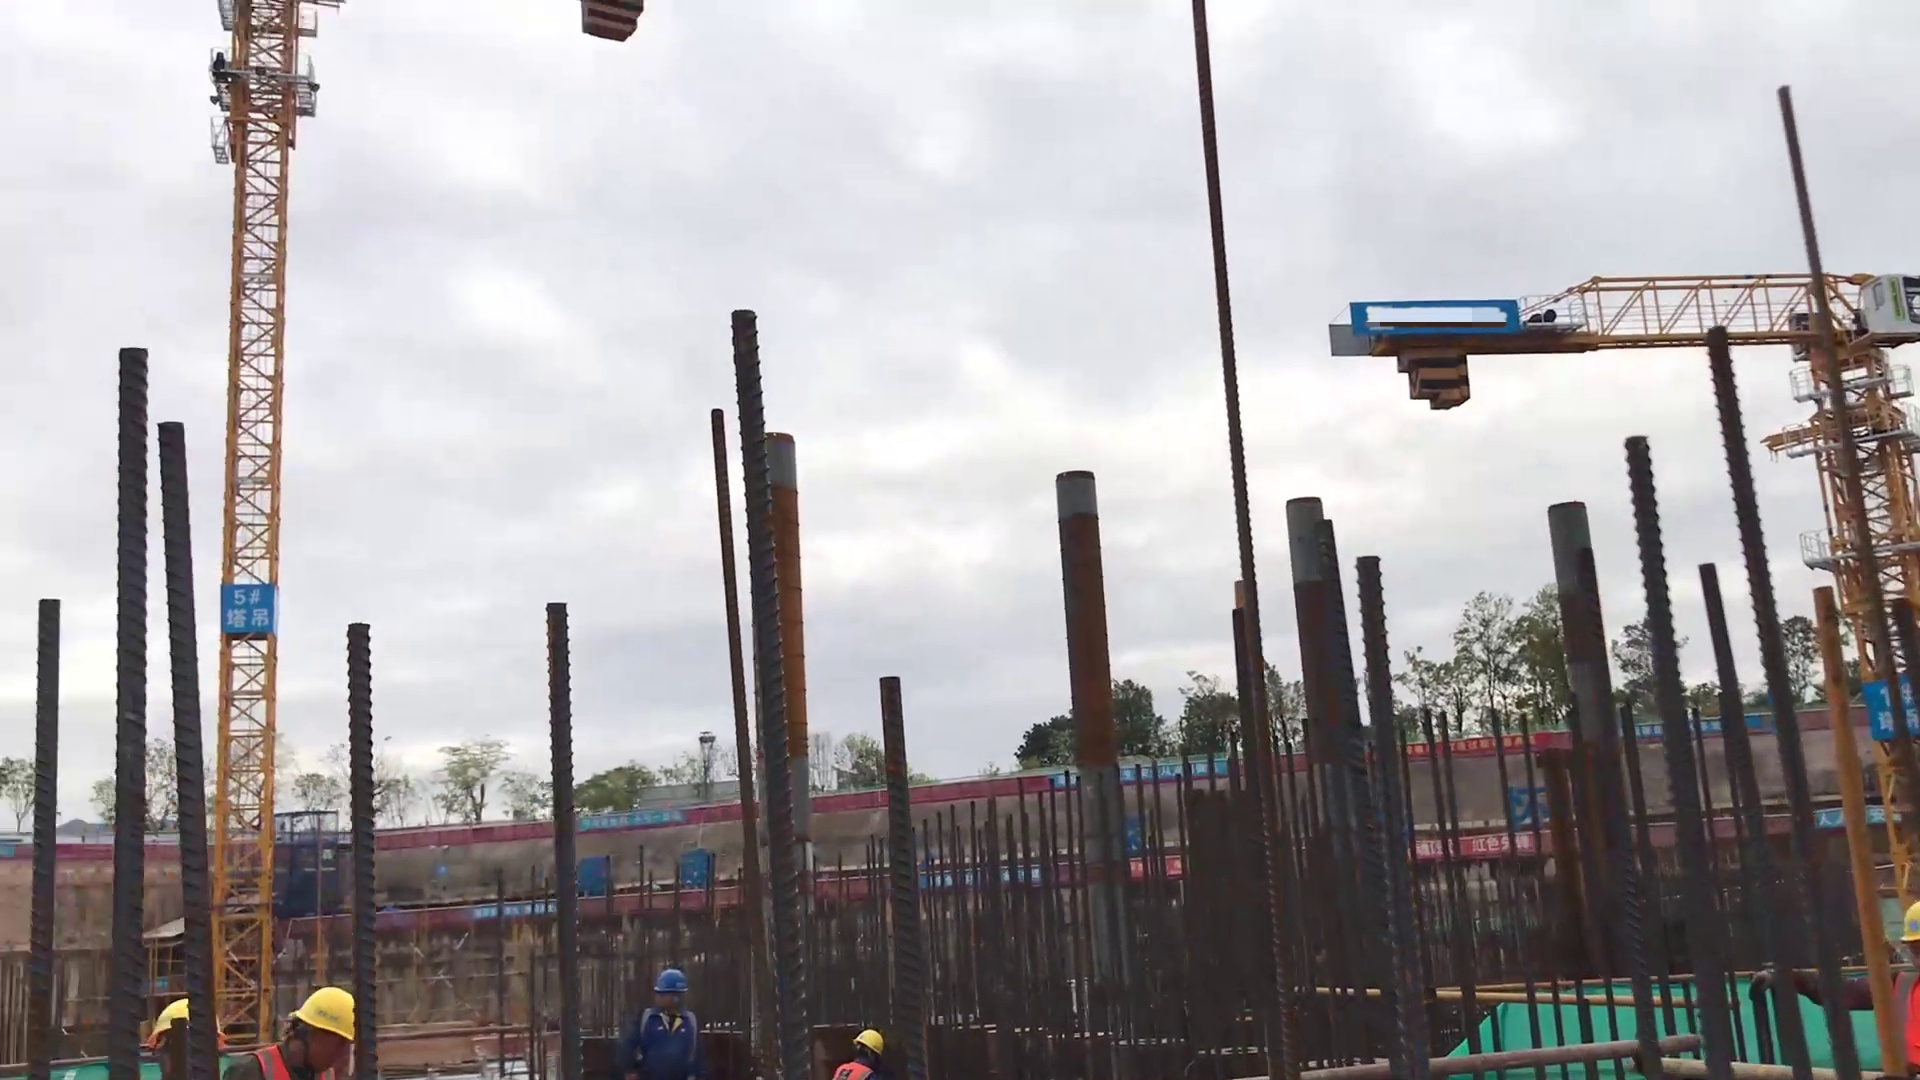fence: (382, 801, 551, 856), (923, 751, 1032, 826), (58, 807, 114, 885), (817, 772, 884, 833)
helmet: (288, 984, 363, 1039), (636, 961, 698, 1006), (151, 992, 205, 1042), (850, 1033, 889, 1053)
person: (225, 987, 365, 1080), (627, 962, 713, 1080), (820, 1019, 896, 1080)
slogan: (211, 575, 290, 647), (578, 812, 700, 836)
vest: (635, 1012, 708, 1075), (822, 1062, 874, 1080)
